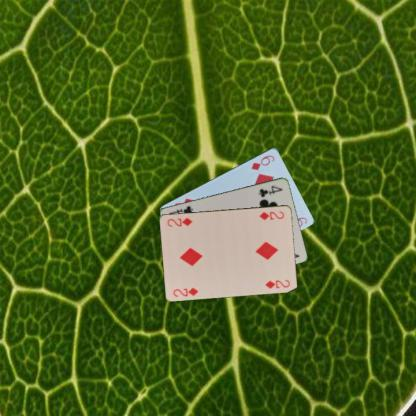2d: (171, 284, 199, 298), (256, 209, 286, 221)
4c: (256, 183, 284, 198)
6d: (248, 152, 276, 171)
